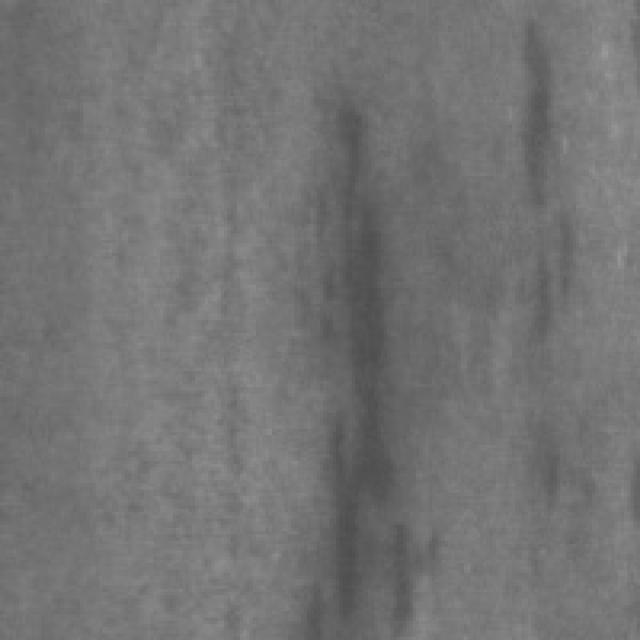inclusion: (310, 90, 436, 634), (502, 9, 576, 214), (522, 202, 592, 352)
